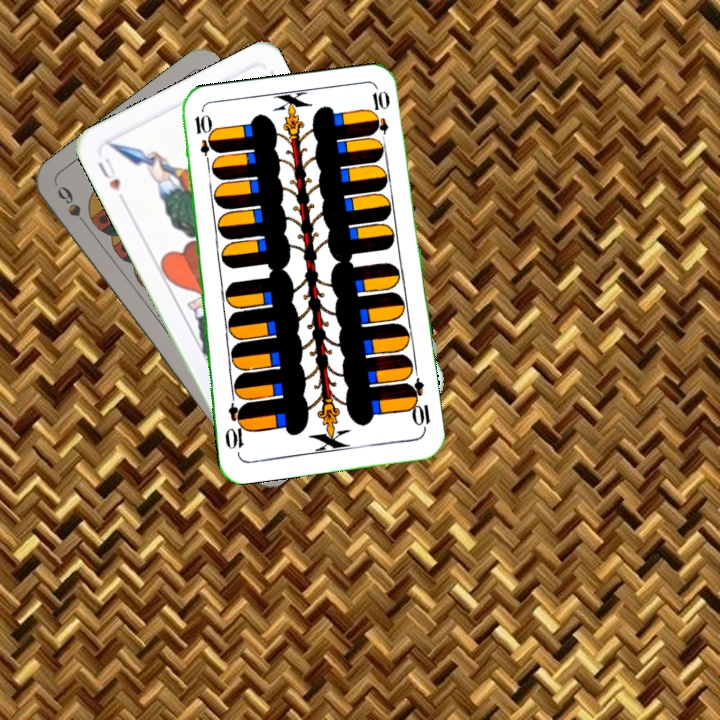E10: (403, 375, 433, 434), (190, 110, 215, 170)
HU: (94, 153, 123, 194)
S9: (53, 182, 93, 233)
